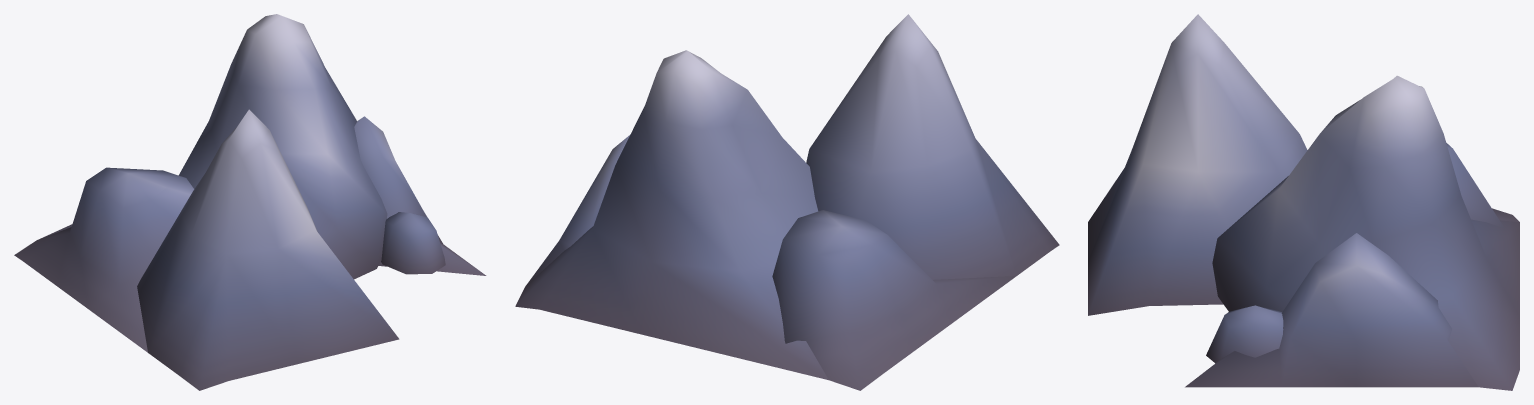
Rendered from block_mountain_4_1.fbx.
3 renders of one model, left to right at view 1: azimuth 30°, elevation 25°; view 2: azimuth 150°, elevation 25°; view 3: azimuth 270°, elevation 25°, orthographic. The views are drawn at different scales.
Parts seen in each view (by area): view 1: block_mountain_4_1; view 2: block_mountain_4_1; view 3: block_mountain_4_1.
Part boxes in pixels (x1,y1,x2,y2): block_mountain_4_1: [14, 14, 486, 390]; block_mountain_4_1: [515, 14, 1059, 390]; block_mountain_4_1: [1088, 14, 1519, 390].
Size of the model in its own units: 185 by 121 by 185.
